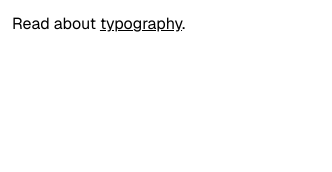
HoverCard › opens on hover and shows content
Hover over the link "typography": (141, 24) top-left (100, 13), bottom-right (182, 34)
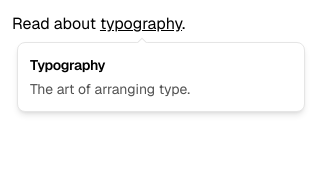
Check: the text "Typography" is shown, box top-left (30, 56), bottom-right (105, 74)
Check: the text "The art of arranging type." is shown, box top-left (30, 80), bottom-right (190, 98)
